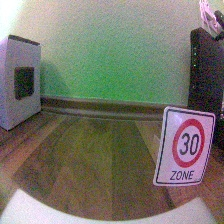dreisiger_zone: (152, 105, 214, 188)
